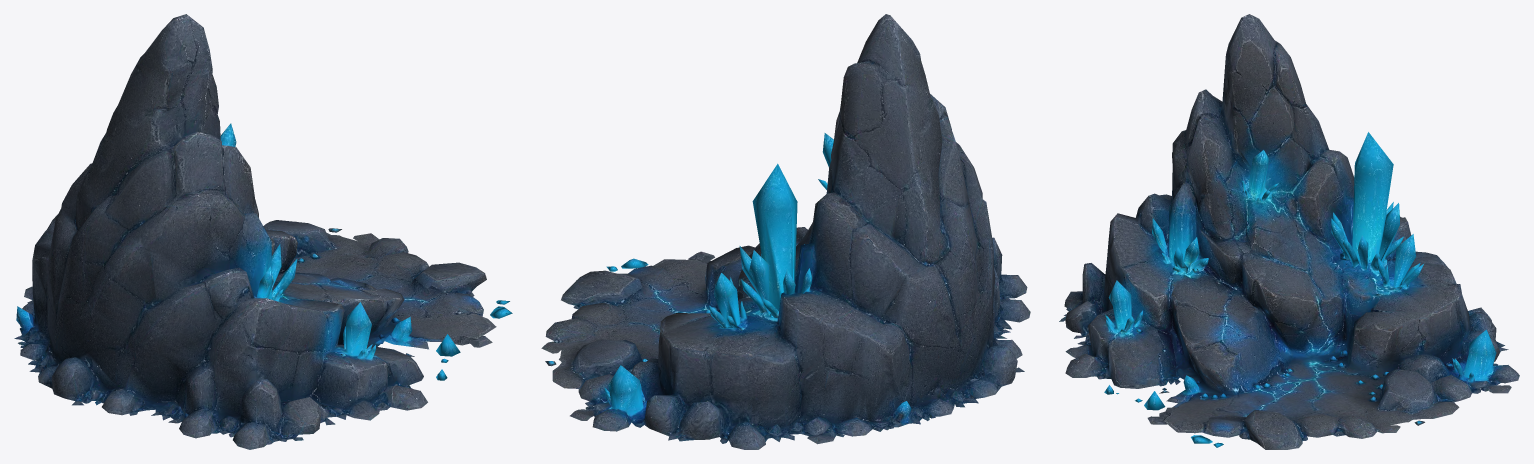
3 views of the same model, side by side, from view 1: azimuth 30°, elevation 25°; view 2: azimuth 150°, elevation 25°; view 3: azimuth 270°, elevation 25° (orthographic). The views are drawn at different scales.
Parts seen in each view (by area): view 1: tripo_node_149aacbc-7937-46f9-b235-0e4c4e0ff946; view 2: tripo_node_149aacbc-7937-46f9-b235-0e4c4e0ff946; view 3: tripo_node_149aacbc-7937-46f9-b235-0e4c4e0ff946.
Part boxes in pixels (x1,y1,x2,y2): tripo_node_149aacbc-7937-46f9-b235-0e4c4e0ff946: [14, 14, 512, 449]; tripo_node_149aacbc-7937-46f9-b235-0e4c4e0ff946: [541, 14, 1030, 449]; tripo_node_149aacbc-7937-46f9-b235-0e4c4e0ff946: [1059, 14, 1519, 449].
Bounding box in the file's own units: 0.9629 × 0.7246 × 0.998.
1 material, 1 textured.
